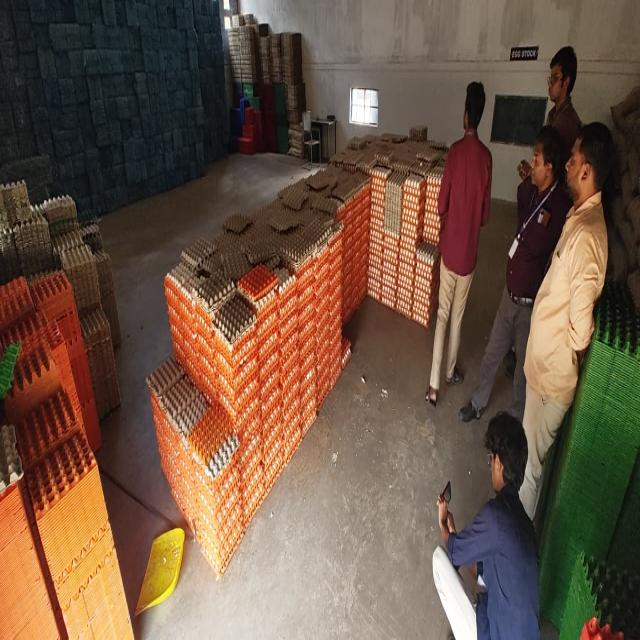egg_tray: (168, 167, 422, 525), (0, 278, 130, 636), (148, 358, 245, 574), (11, 272, 100, 449), (166, 267, 258, 427), (28, 432, 108, 596), (240, 291, 296, 521), (0, 426, 56, 637), (368, 167, 441, 323), (56, 523, 132, 637), (151, 376, 206, 530), (199, 294, 258, 437), (2, 310, 81, 415), (283, 256, 328, 434), (160, 376, 238, 478), (190, 432, 246, 574), (188, 405, 246, 542), (280, 255, 318, 459), (61, 528, 132, 637), (151, 393, 198, 531), (152, 398, 200, 533), (195, 450, 246, 576), (278, 269, 310, 465), (188, 271, 236, 399), (198, 323, 258, 418), (17, 388, 82, 468), (257, 287, 282, 490), (336, 186, 370, 322), (212, 295, 260, 391), (5, 341, 61, 421), (176, 305, 222, 399), (80, 307, 119, 417), (254, 272, 280, 434), (397, 175, 426, 317), (165, 263, 198, 378), (278, 316, 314, 421), (284, 351, 322, 434), (260, 347, 282, 489), (0, 277, 44, 347), (220, 364, 260, 441), (160, 376, 208, 440), (368, 168, 391, 300), (30, 272, 77, 335), (240, 428, 272, 520), (314, 245, 332, 408), (279, 307, 314, 390), (240, 433, 274, 517), (94, 250, 121, 347), (0, 309, 58, 354), (239, 430, 266, 525), (252, 274, 280, 365), (328, 230, 344, 388), (62, 247, 100, 313), (298, 355, 330, 433), (14, 208, 52, 273), (329, 234, 344, 387), (413, 242, 440, 325), (278, 307, 303, 391), (214, 296, 256, 344), (342, 247, 368, 321), (165, 262, 199, 317), (262, 409, 284, 492), (401, 176, 426, 249), (260, 345, 281, 429), (192, 272, 235, 313), (0, 278, 33, 331), (336, 187, 368, 241), (281, 384, 302, 465), (283, 386, 304, 463), (392, 141, 440, 174), (296, 257, 316, 335), (314, 246, 329, 349), (0, 424, 22, 493), (148, 356, 185, 396), (0, 180, 30, 227), (238, 264, 276, 301), (42, 196, 77, 236), (208, 433, 239, 478), (322, 328, 341, 400), (381, 232, 399, 308), (424, 168, 442, 243), (283, 380, 300, 459), (384, 172, 406, 233), (368, 220, 384, 300), (306, 217, 343, 251), (52, 229, 84, 268), (243, 236, 280, 269), (275, 267, 297, 322), (398, 246, 415, 317), (280, 235, 313, 271), (342, 247, 358, 320), (294, 252, 316, 305), (333, 170, 369, 201), (384, 147, 423, 174), (352, 185, 370, 243), (180, 238, 216, 267), (282, 413, 302, 465), (0, 225, 19, 279), (372, 168, 391, 222), (396, 263, 414, 317), (329, 231, 344, 295), (300, 261, 316, 318), (278, 180, 308, 210), (219, 251, 250, 280), (416, 140, 448, 167), (352, 139, 378, 172), (403, 174, 428, 208), (413, 291, 437, 325), (398, 245, 416, 290), (268, 206, 299, 232), (400, 217, 423, 252), (370, 180, 386, 230), (80, 219, 104, 251), (336, 147, 364, 173), (372, 167, 392, 203), (310, 194, 340, 217), (423, 205, 441, 242), (383, 232, 400, 271), (416, 241, 440, 266), (427, 140, 448, 167), (223, 214, 252, 233), (381, 273, 396, 309), (306, 172, 336, 190), (373, 146, 392, 170), (370, 200, 383, 234), (368, 267, 380, 299), (356, 265, 366, 302), (340, 338, 351, 368), (409, 124, 428, 140), (108, 376, 118, 405), (348, 136, 366, 150), (358, 273, 366, 297), (306, 351, 316, 369), (163, 462, 172, 482), (390, 133, 408, 143), (343, 243, 354, 258), (334, 252, 340, 276), (428, 271, 434, 290), (36, 290, 46, 301), (102, 345, 112, 355), (320, 267, 330, 276), (380, 133, 390, 141), (285, 283, 292, 294), (288, 304, 294, 316), (308, 333, 312, 349), (284, 285, 292, 293), (285, 302, 294, 309), (301, 398, 305, 412), (390, 184, 396, 192), (216, 562, 220, 574), (335, 297, 340, 306), (310, 338, 314, 349), (284, 277, 296, 280), (302, 299, 306, 308), (2, 338, 7, 345), (294, 369, 298, 377), (358, 254, 362, 262), (436, 272, 438, 286), (322, 257, 326, 263), (274, 274, 278, 280), (308, 343, 314, 347), (306, 313, 310, 319), (422, 274, 426, 280), (74, 559, 80, 563), (49, 305, 56, 308), (262, 442, 264, 452), (334, 322, 338, 327), (419, 177, 424, 181), (294, 335, 296, 344), (323, 250, 326, 255), (302, 295, 305, 300), (65, 302, 68, 307), (174, 490, 179, 493), (390, 141, 395, 144), (424, 189, 426, 196), (85, 559, 88, 563), (370, 239, 374, 242), (252, 355, 254, 361), (404, 310, 408, 313), (308, 322, 312, 325), (366, 233, 368, 238), (276, 410, 278, 415), (23, 386, 26, 389), (346, 224, 348, 228), (208, 555, 210, 559), (164, 453, 166, 457), (290, 420, 294, 422), (276, 396, 278, 400), (150, 374, 153, 376), (278, 463, 280, 466), (200, 514, 202, 517), (183, 487, 184, 493), (262, 440, 264, 442), (73, 576, 75, 578), (238, 404, 240, 406), (212, 562, 216, 563), (203, 546, 205, 548), (159, 442, 160, 446), (416, 146, 418, 148), (325, 287, 326, 290), (62, 597, 65, 598), (161, 453, 162, 456), (200, 422, 203, 423), (284, 342, 286, 343), (328, 297, 330, 298), (83, 398, 85, 399), (191, 463, 193, 464), (311, 420, 312, 421), (74, 401, 75, 402), (165, 447, 166, 448), (382, 153, 383, 154), (306, 416, 308, 416), (160, 368, 162, 368), (310, 420, 310, 421), (285, 381, 285, 385), (296, 327, 296, 328), (336, 317, 336, 319), (340, 327, 340, 333), (112, 369, 112, 372), (112, 361, 112, 363), (230, 397, 230, 398), (288, 290, 288, 292), (290, 287, 290, 288), (436, 213, 436, 214), (387, 208, 387, 212), (205, 522, 205, 524), (398, 140, 400, 140), (279, 466, 279, 468), (297, 434, 297, 439)
